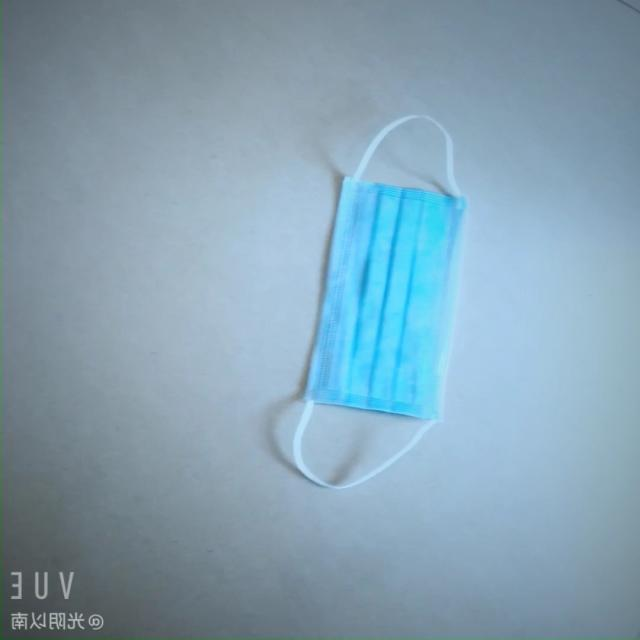face mask: (306, 164, 476, 423)
